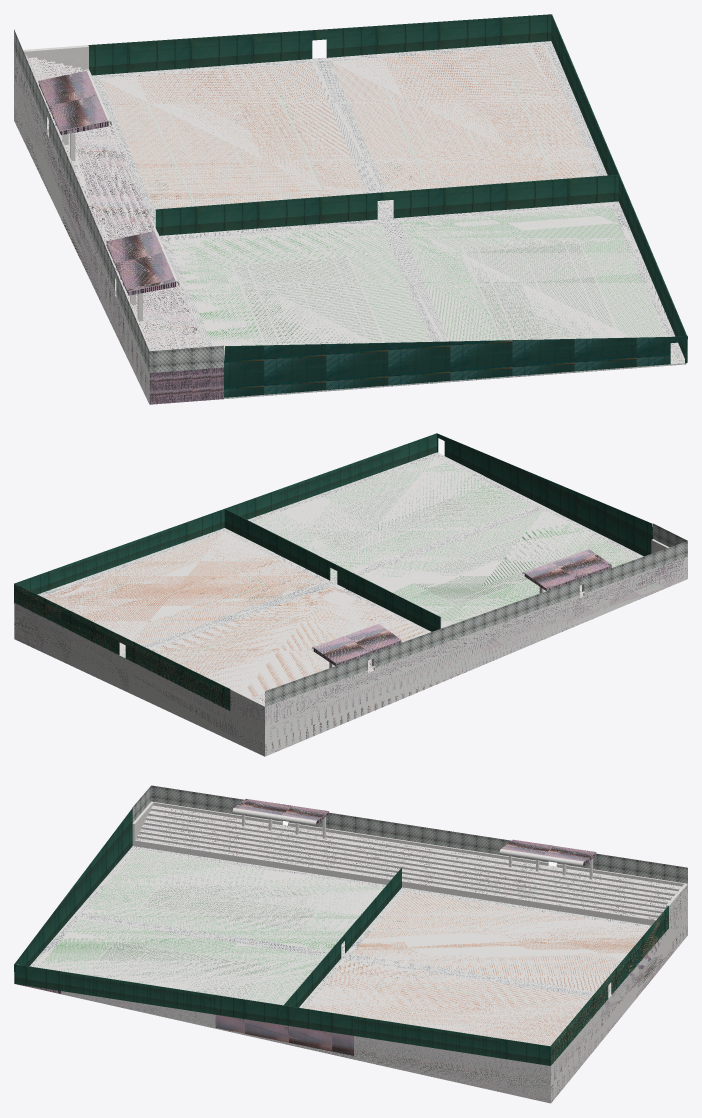
File: tennis_court.fbx
3 views of the same model, one above another, from view 1: azimuth 30°, elevation 25°; view 2: azimuth 150°, elevation 25°; view 3: azimuth 270°, elevation 25° (orthographic). The views are drawn at different scales.
Visible parts, largest first — view 1: SketchUp.061, SketchUp.060, SketchUp.063, SketchUp.062, SketchUp.059, SketchUp.067, SketchUp.058, SketchUp, SketchUp.074, SketchUp.054, SketchUp.019, SketchUp.077 (+11 smaller); view 2: SketchUp, SketchUp.062, SketchUp.061, SketchUp.063, SketchUp.059, SketchUp.060, SketchUp.074, SketchUp.058, SketchUp.068, SketchUp.070, SketchUp.072, SketchUp.054 (+1 smaller); view 3: SketchUp.059, SketchUp.060, SketchUp, SketchUp.001, SketchUp.062, SketchUp.061, SketchUp.063, SketchUp.058, SketchUp.074, SketchUp.069, SketchUp.071, SketchUp.068 (+13 smaller).
Part boxes in pixels (x1,y1,x2,y2): SketchUp.061: (331, 45, 597, 209); SketchUp.060: (100, 62, 366, 211); SketchUp.063: (88, 14, 687, 362); SketchUp.062: (398, 206, 674, 358); SketchUp.059: (169, 225, 430, 360); SketchUp.067: (224, 336, 687, 397); SketchUp.058: (92, 41, 684, 363); SketchUp: (14, 51, 151, 404); SketchUp.074: (14, 29, 223, 372); SketchUp.054: (38, 70, 107, 130); SketchUp.019: (105, 231, 174, 291); SketchUp.077: (149, 367, 223, 404); SketchUp: (14, 556, 687, 756); SketchUp.062: (252, 457, 533, 577); SketchUp.061: (42, 532, 322, 652); SketchUp.063: (14, 433, 652, 689); SketchUp.059: (359, 510, 638, 628); SketchUp.060: (152, 586, 426, 697); SketchUp.074: (265, 523, 687, 706); SketchUp.058: (37, 452, 643, 658); SketchUp.068: (14, 584, 230, 710); SketchUp.070: (278, 447, 400, 508); SketchUp.072: (59, 525, 180, 586); SketchUp.054: (314, 624, 401, 663); SketchUp.059: (82, 850, 383, 951); SketchUp.060: (352, 891, 648, 991); SketchUp: (61, 805, 687, 1103); SketchUp.001: (132, 802, 687, 925); SketchUp.062: (37, 919, 324, 1005); SketchUp.061: (305, 960, 590, 1045); SketchUp.063: (14, 809, 668, 1065); SketchUp.058: (29, 846, 651, 1008); SketchUp.074: (132, 785, 687, 883); SketchUp.069: (61, 971, 215, 1014); SketchUp.071: (354, 1016, 500, 1058); SketchUp.068: (551, 906, 668, 1065).
Bounding box in the file's own units: 8020 × 1284 × 9432.
